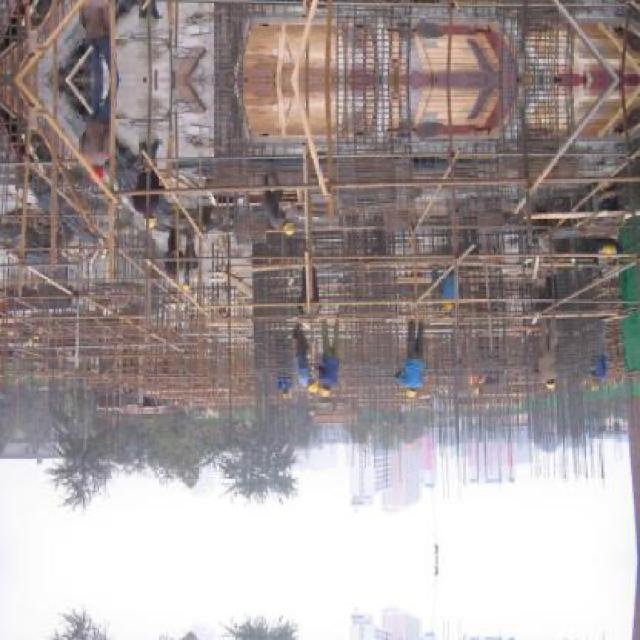con casco: (400, 376, 439, 405), (301, 372, 330, 397), (320, 375, 340, 407)
